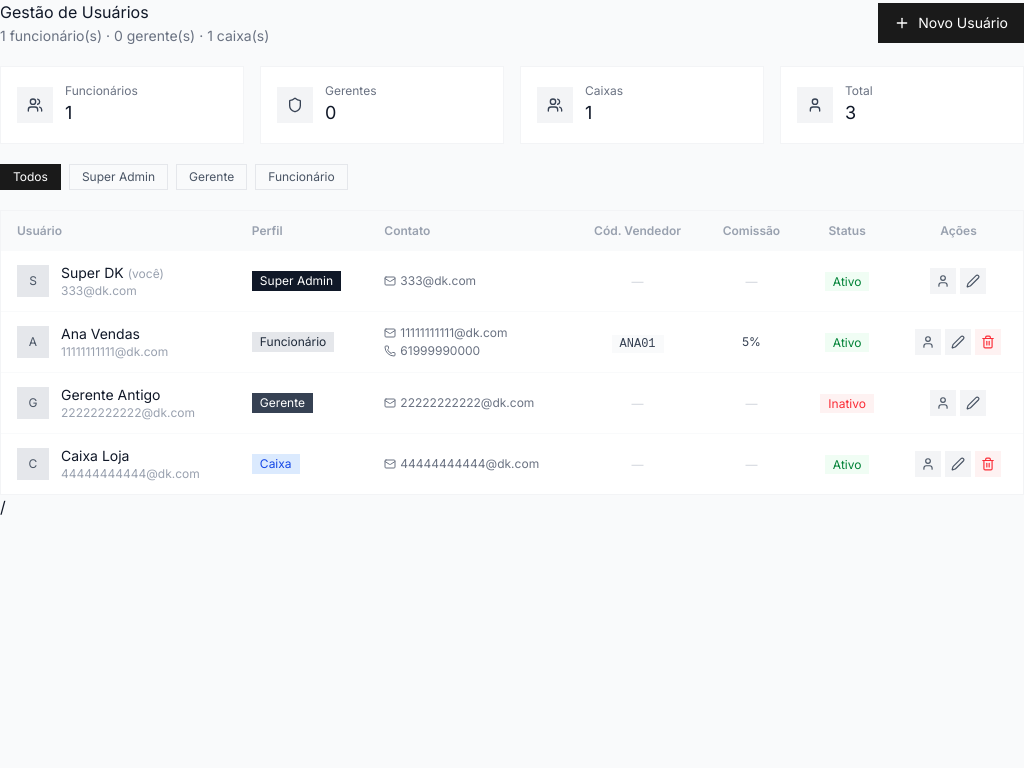
Test: Employees › edita um caixa sem enviar comissão nem senha
Expected: the text "Ana Vendas" is shown, [61, 325, 140, 342]
Click the button named "Editar" in the row of "Caixa Loja" at (958, 464), box [946, 451, 972, 477]
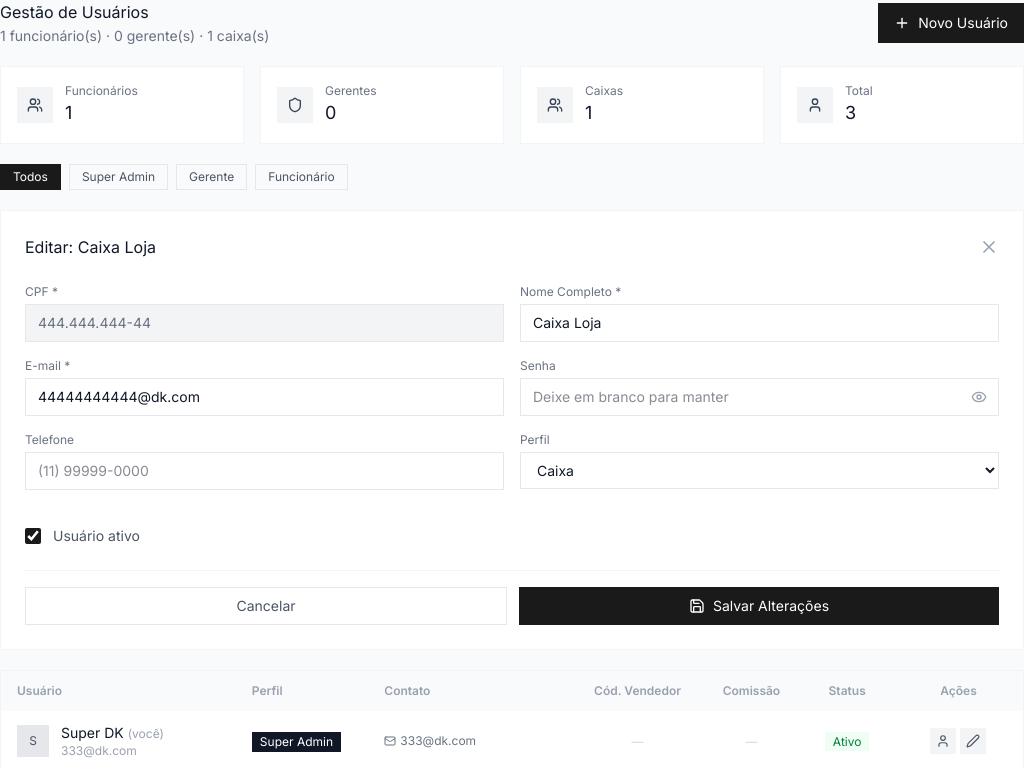
Expected: the heading "Editar: Caixa Loja" is shown, [25, 235, 156, 260]
Expected: the field with placeholder "000.000.000-00" below "CPF *" is disabled, [25, 304, 504, 342]
Click the checkbox labelled "Usuário ativo" at (33, 536), box [25, 528, 41, 544]
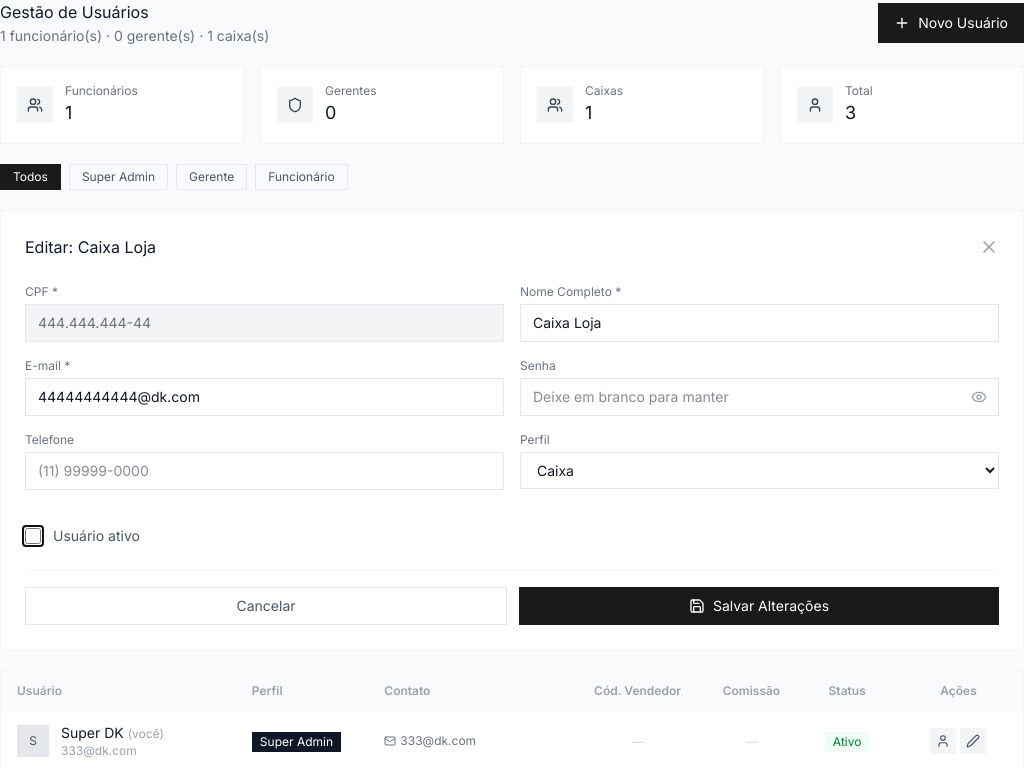
Click the button "Salvar Alterações" at (759, 606), box [519, 587, 999, 625]
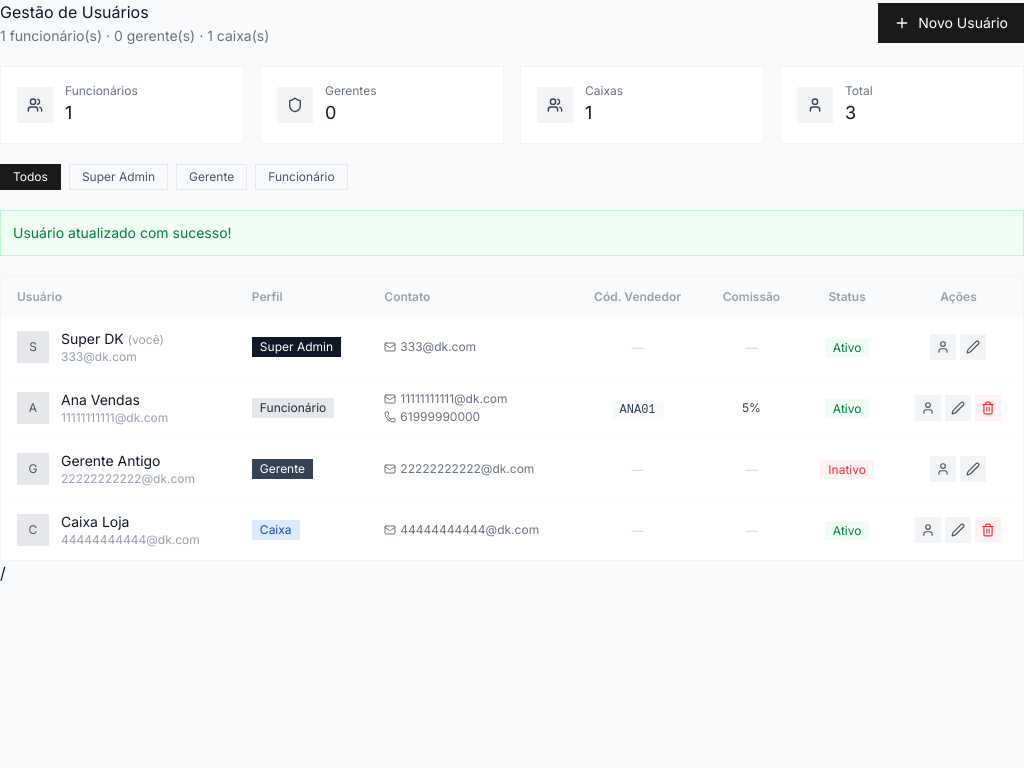
Expected: the text "Usuário atualizado com sucesso!" is shown, [0, 210, 1023, 256]
